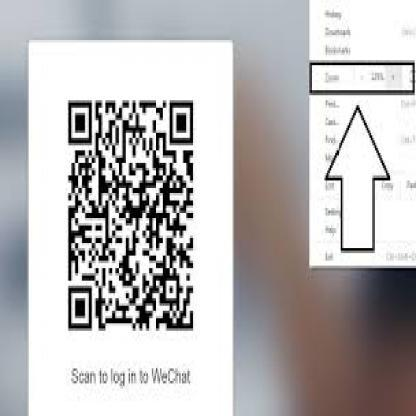qr_code: (68, 100, 193, 331)
